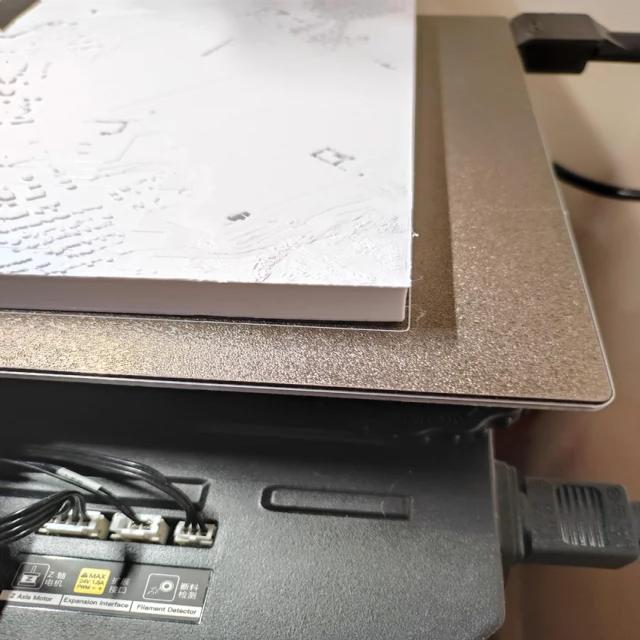warping: (274, 306, 412, 335)
